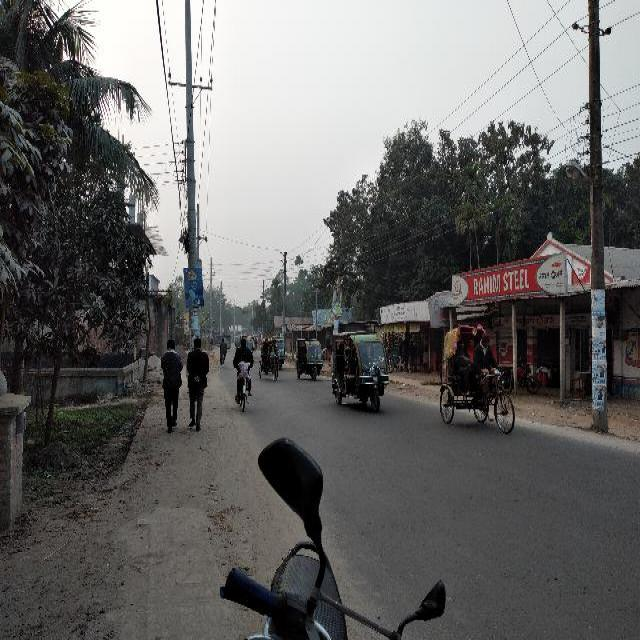bike: (222, 436, 457, 638), (498, 364, 541, 395), (234, 367, 253, 414), (378, 354, 395, 376), (221, 351, 228, 368), (255, 342, 259, 353)
vehicle: (438, 325, 516, 434), (332, 330, 391, 413), (296, 337, 325, 381), (260, 338, 281, 382), (272, 334, 288, 369), (243, 336, 254, 354), (223, 334, 232, 351), (235, 335, 241, 351), (217, 335, 224, 347)
